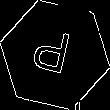P_S: (32, 27, 78, 83)
